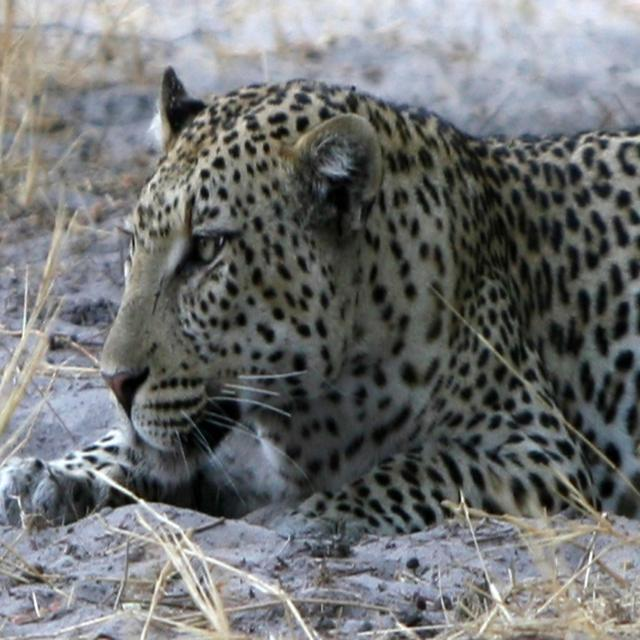Leopard: (5, 64, 640, 608)
